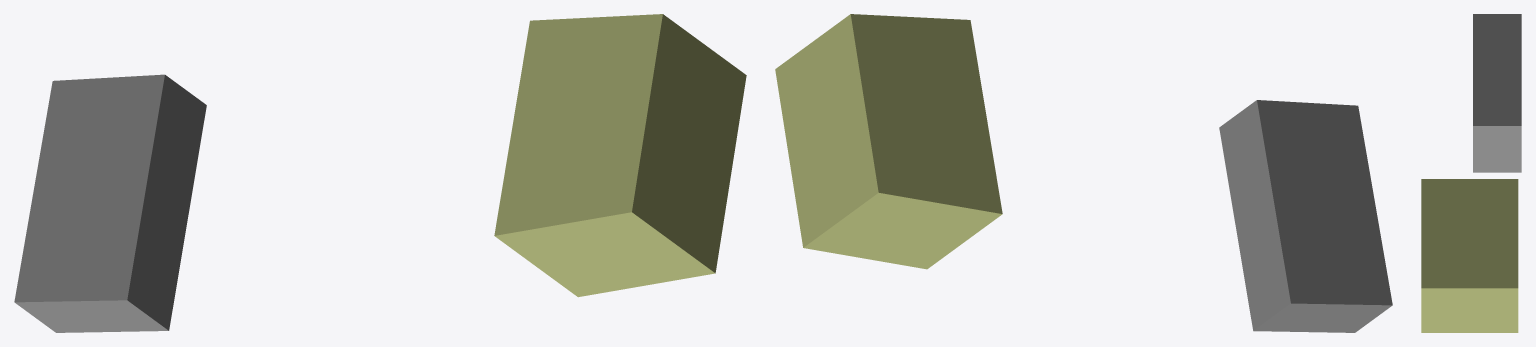
The picture shows the model from 3 angles, left to right: view 1: azimuth 30°, elevation 25°; view 2: azimuth 150°, elevation 25°; view 3: azimuth 270°, elevation 25°; orthographic projection. The views are drawn at different scales.
Parts seen in each view (by area): view 1: 0_1_0_0_2_1_0_0_3_0; view 2: 0_1_0_0_2_1_0_0_3_0; view 3: 0_1_0_0_2_1_0_0_3_0.
Boxes of the visible parts, <box> form: 0_1_0_0_2_1_0_0_3_0: <box>14,14,746,332</box>; 0_1_0_0_2_1_0_0_3_0: <box>775,14,1392,332</box>; 0_1_0_0_2_1_0_0_3_0: <box>1421,14,1521,332</box>.
Bounding box in the file's own units: 26.73 × 10.67 × 6.2.
